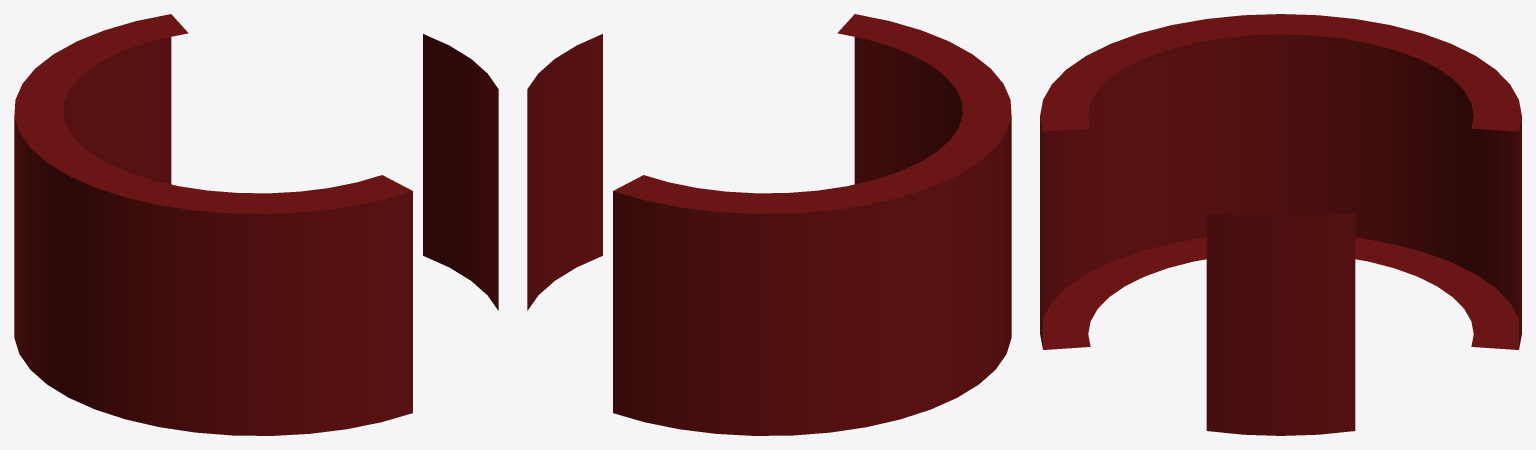
The model's file is round_map_guide.FBX.
3 renders of one model, left to right at view 1: azimuth 30°, elevation 25°; view 2: azimuth 150°, elevation 25°; view 3: azimuth 270°, elevation 25°, orthographic.
Visible parts, largest first — view 1: Cylinder001; view 2: Cylinder001; view 3: Cylinder001.
Boxes of the visible parts, x1,y1,x2,y2 form: Cylinder001: (14,14,498,435); Cylinder001: (527,14,1011,435); Cylinder001: (1040,14,1521,435).
Bounding box in the file's own units: 2000 × 1000 × 2000.
